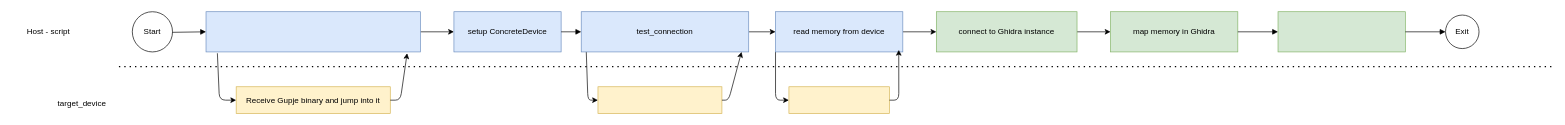
This 1565x125 diagram has some shape labels left out. Each missing label, with the box of its shape:
gupje memread: (788, 86, 889, 114)
Load Gupje: (205, 11, 420, 52)
recv PING and reply PONG: (597, 86, 722, 114)
write memory to Ghidra: (1277, 11, 1405, 52)
